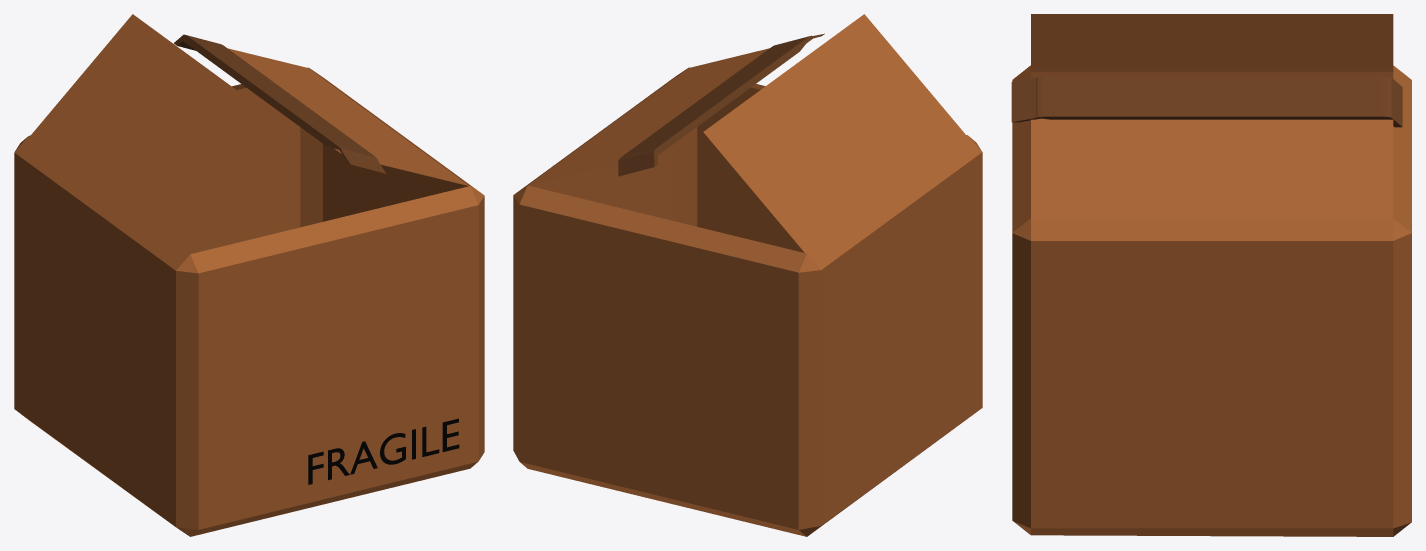
File: finalMovingBoxOpen.fbx
The picture shows the model from 3 angles, left to right: view 1: azimuth 30°, elevation 25°; view 2: azimuth 150°, elevation 25°; view 3: azimuth 270°, elevation 25°; orthographic projection. The views are drawn at different scales.
Visible parts, largest first — view 1: Cube.004, fragile; view 2: Cube.004; view 3: Cube.004.
Part boxes in pixels (x1,y1,x2,y2): Cube.004: [14, 14, 484, 536]; fragile: [308, 418, 459, 484]; Cube.004: [513, 14, 982, 536]; Cube.004: [1011, 14, 1411, 536].
Size of the model in its own units: 45.7 by 53.86 by 45.84.
